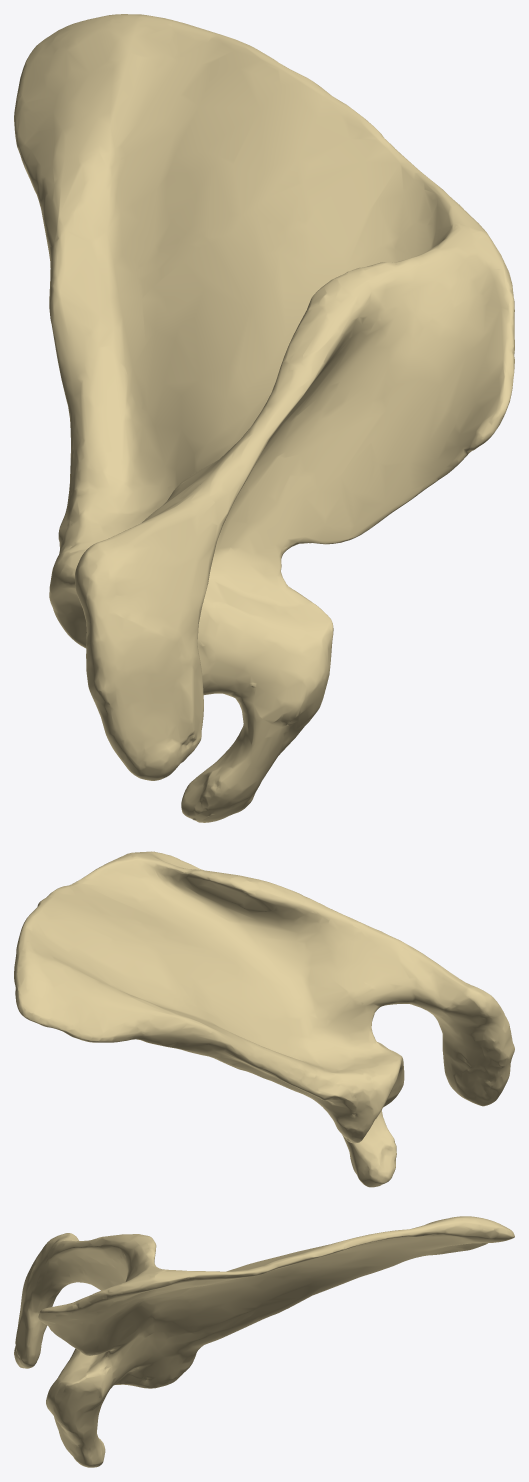
3 views of the same model, one above another, from view 1: azimuth 30°, elevation 25°; view 2: azimuth 150°, elevation 25°; view 3: azimuth 270°, elevation 25° (orthographic). The views are drawn at different scales.
Visible parts, largest first — view 1: 右侧肩胛骨; view 2: 右侧肩胛骨; view 3: 右侧肩胛骨.
Boxes of the visible parts, <box> form: 右侧肩胛骨: <box>14,14,514,822</box>; 右侧肩胛骨: <box>14,851,514,1187</box>; 右侧肩胛骨: <box>14,1216,514,1467</box>.
Size of the model in its own units: 0.1665 by 0.1681 by 0.241.
